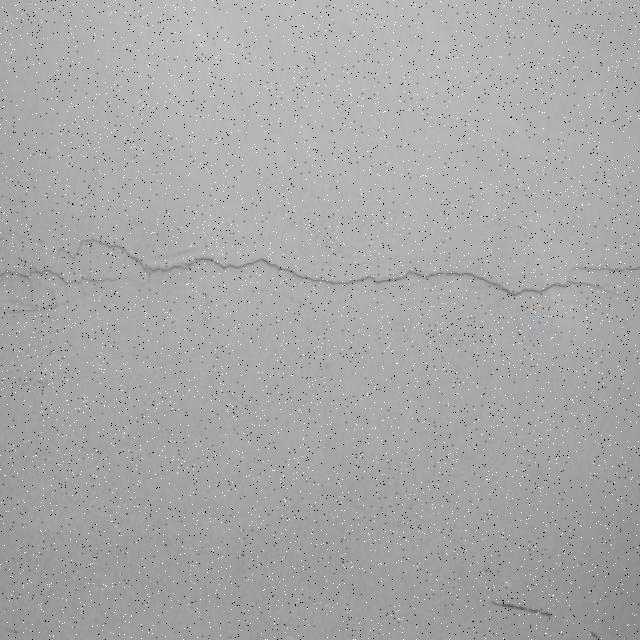minor crack: (408, 266, 626, 295), (268, 260, 386, 284)
